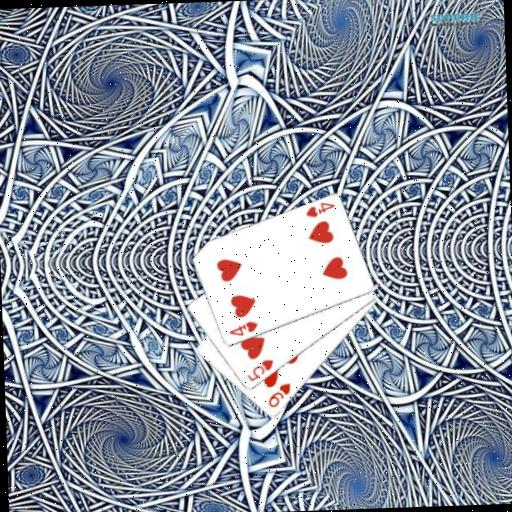4H: (225, 318, 259, 338), (302, 199, 336, 219)
5H: (244, 356, 275, 384)
9H: (265, 381, 293, 410)
